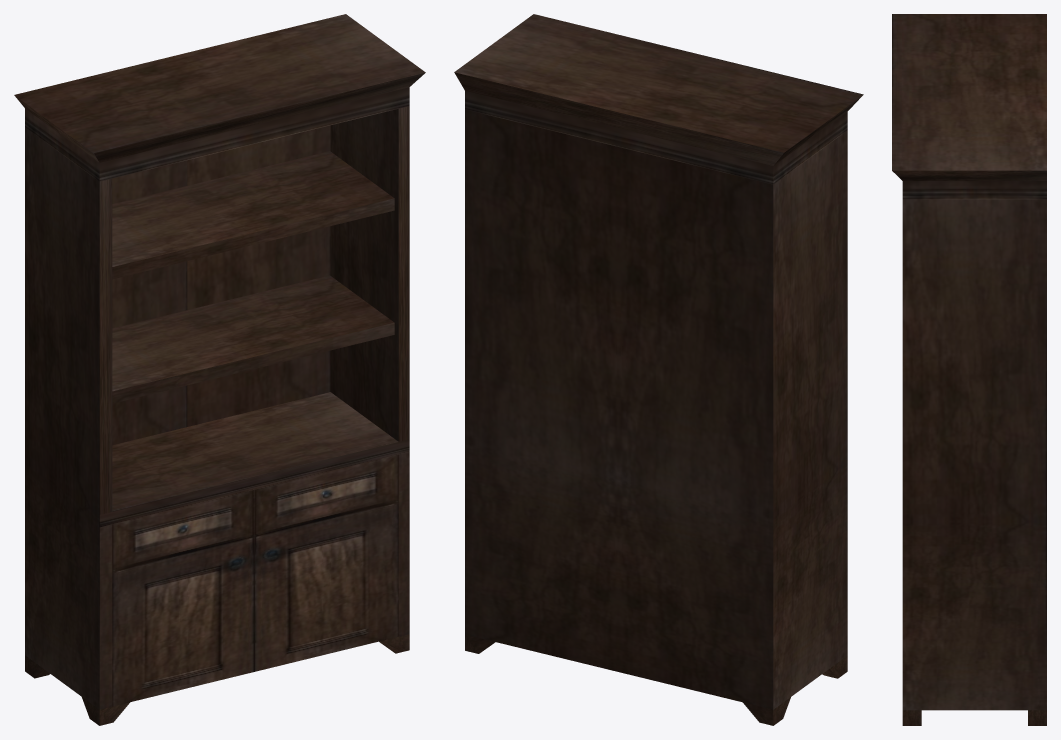
File: cabinet_spanish.fbx
3 renders of one model, left to right at view 1: azimuth 30°, elevation 25°; view 2: azimuth 150°, elevation 25°; view 3: azimuth 270°, elevation 25°, orthographic. The views are drawn at different scales.
Parts seen in each view (by area): view 1: cabinet_base, cabinet_crown, cabinet_shelf_2, cabinet_shelf_1; view 2: cabinet_base, cabinet_crown; view 3: cabinet_base, cabinet_crown, cabinet_foot_3, cabinet_foot_2.
Boxes of the visible parts, box(x1,y1,x2,y2) form: cabinet_base: box(25, 106, 409, 709); cabinet_crown: box(14, 14, 425, 181); cabinet_shelf_2: box(112, 151, 394, 279); cabinet_shelf_1: box(112, 275, 394, 403); cabinet_base: box(465, 109, 847, 709); cabinet_crown: box(454, 14, 863, 184); cabinet_base: box(902, 199, 1046, 710); cabinet_crown: box(892, 14, 1046, 199); cabinet_foot_3: box(902, 710, 921, 725); cabinet_foot_2: box(1028, 710, 1046, 725).
Bounding box in the file's own units: 535 × 892 × 223.
1 material, 1 textured.
